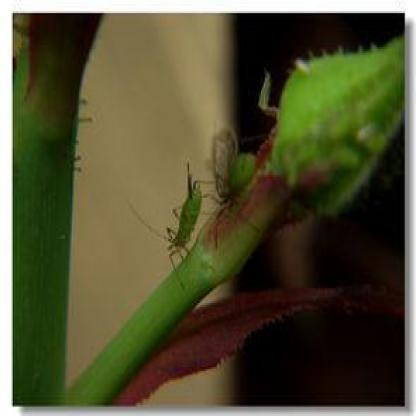aphid: (154, 160, 212, 278), (208, 123, 262, 219)
